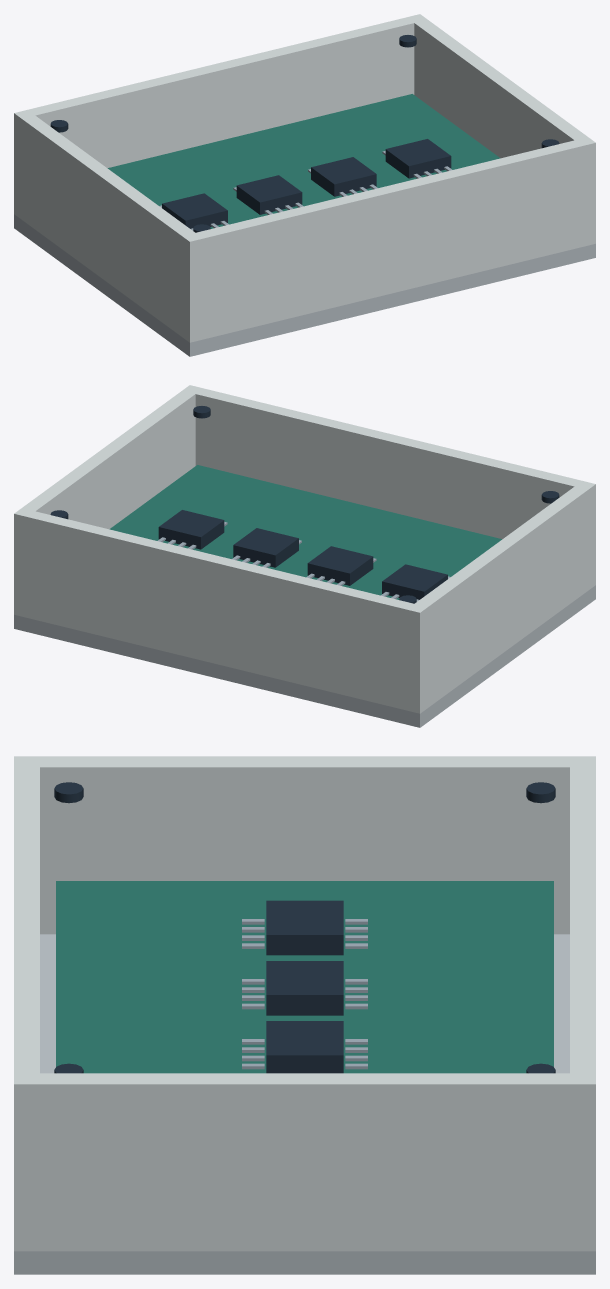
File: control-box.glb
The picture shows the model from 3 angles, top to bottom: view 1: azimuth 30°, elevation 25°; view 2: azimuth 150°, elevation 25°; view 3: azimuth 270°, elevation 25°; orthographic projection. The views are drawn at different scales.
Visible parts, largest first — view 1: GaugeWallZ0.086, GaugeWallZ-0.086, GaugeWallX-0.116, GaugePCB, GaugeWallX0.116, GaugeBase, GaugeChip1, GaugeChip3, GaugeChip2, GaugeChip0; view 2: GaugeWallZ-0.086, GaugeWallZ0.086, GaugeWallX-0.116, GaugePCB, GaugeWallX0.116, GaugeBase, GaugeChip1, GaugeChip3, GaugeChip2, GaugeChip0; view 3: GaugeWallX0.116, GaugePCB, GaugeWallX-0.116, GaugeBase, GaugeWallZ0.086, GaugeWallZ-0.086, GaugeChip0, GaugeChip1, GaugeChip2.
Boxes of the visible parts, x1,y1,x2,y2 form: GaugeWallZ0.086: (182, 137, 595, 342); GaugeWallZ-0.086: (14, 14, 427, 167); GaugeWallX-0.116: (14, 113, 203, 342); GaugePCB: (107, 94, 500, 228); GaugeWallX0.116: (407, 14, 595, 246); GaugeBase: (14, 214, 595, 356); GaugeChip1: (236, 175, 302, 214); GaugeChip3: (385, 139, 451, 178); GaugeChip2: (311, 157, 376, 196); GaugeChip0: (162, 193, 227, 228); GaugeWallZ-0.086: (15, 508, 427, 713); GaugeWallZ0.086: (182, 385, 595, 590); GaugeWallX-0.116: (406, 485, 593, 713); GaugePCB: (109, 465, 502, 599); GaugeWallX0.116: (14, 385, 201, 617); GaugeBase: (14, 585, 595, 727); GaugeChip1: (307, 546, 373, 585); GaugeChip3: (158, 510, 224, 549); GaugeChip2: (233, 528, 298, 567); GaugeChip0: (382, 564, 447, 599); GaugeWallX0.116: (14, 1073, 595, 1251); GaugePCB: (56, 881, 553, 1073); GaugeWallX-0.116: (14, 756, 595, 934); GaugeBase: (14, 934, 595, 1274); GaugeWallZ0.086: (14, 756, 39, 1251); GaugeWallZ-0.086: (570, 756, 595, 1251); GaugeChip0: (266, 900, 343, 955); GaugeChip1: (266, 961, 343, 1015); GaugeChip2: (266, 1021, 343, 1073).
Size of the model in its own units: 0.24 by 0.065 by 0.18.
